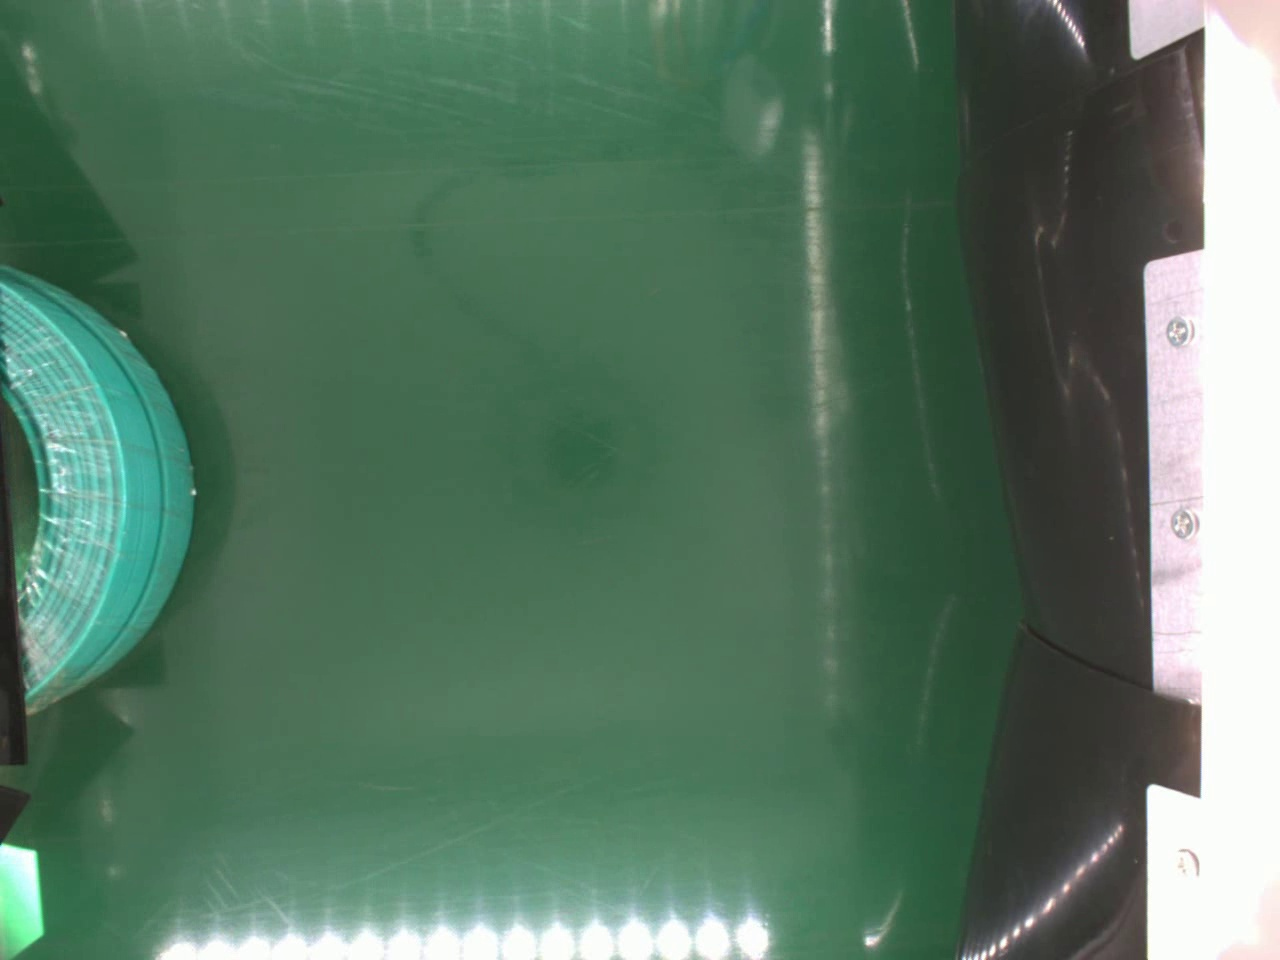green: (0, 257, 195, 716)
